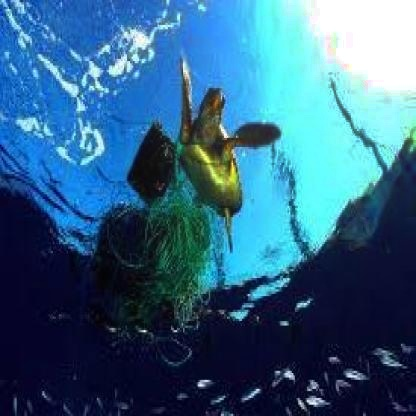net: (151, 192, 209, 323)
